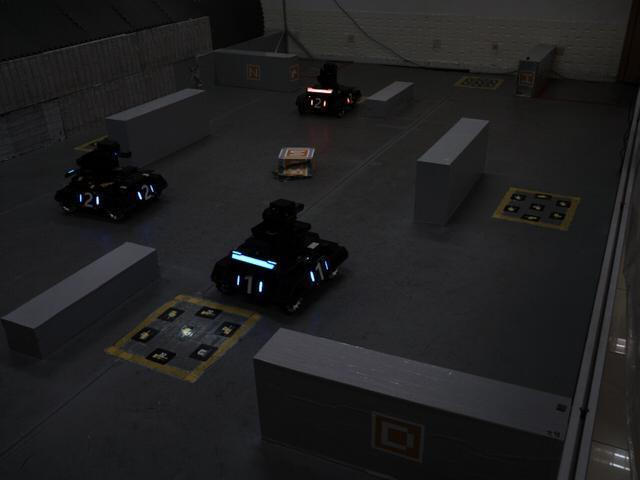armor: (227, 266, 264, 300), (307, 256, 334, 288), (73, 187, 103, 212), (131, 178, 156, 205), (308, 94, 328, 113)
